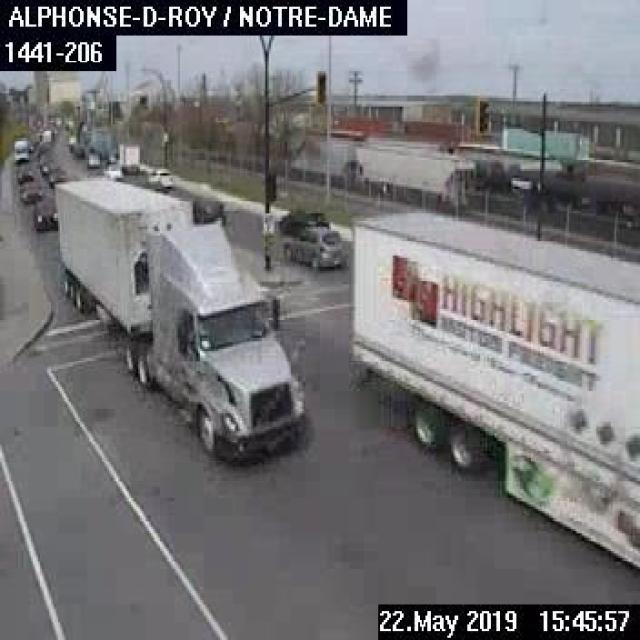vehicle: (345, 205, 638, 569), (53, 175, 306, 462), (281, 223, 347, 266), (279, 206, 328, 230), (32, 190, 58, 230), (190, 193, 223, 222), (116, 142, 140, 174), (144, 166, 172, 190), (13, 136, 29, 165), (14, 166, 36, 185), (18, 184, 42, 201), (47, 168, 66, 187), (84, 149, 100, 167)
